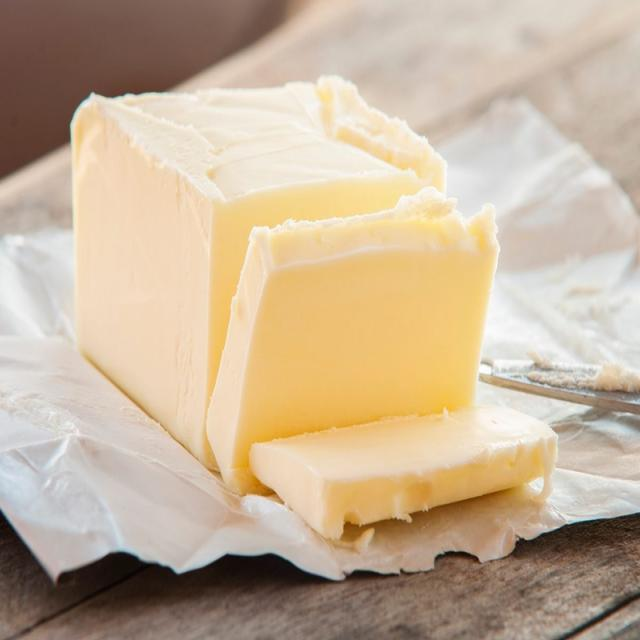Butter: (64, 72, 562, 536)
